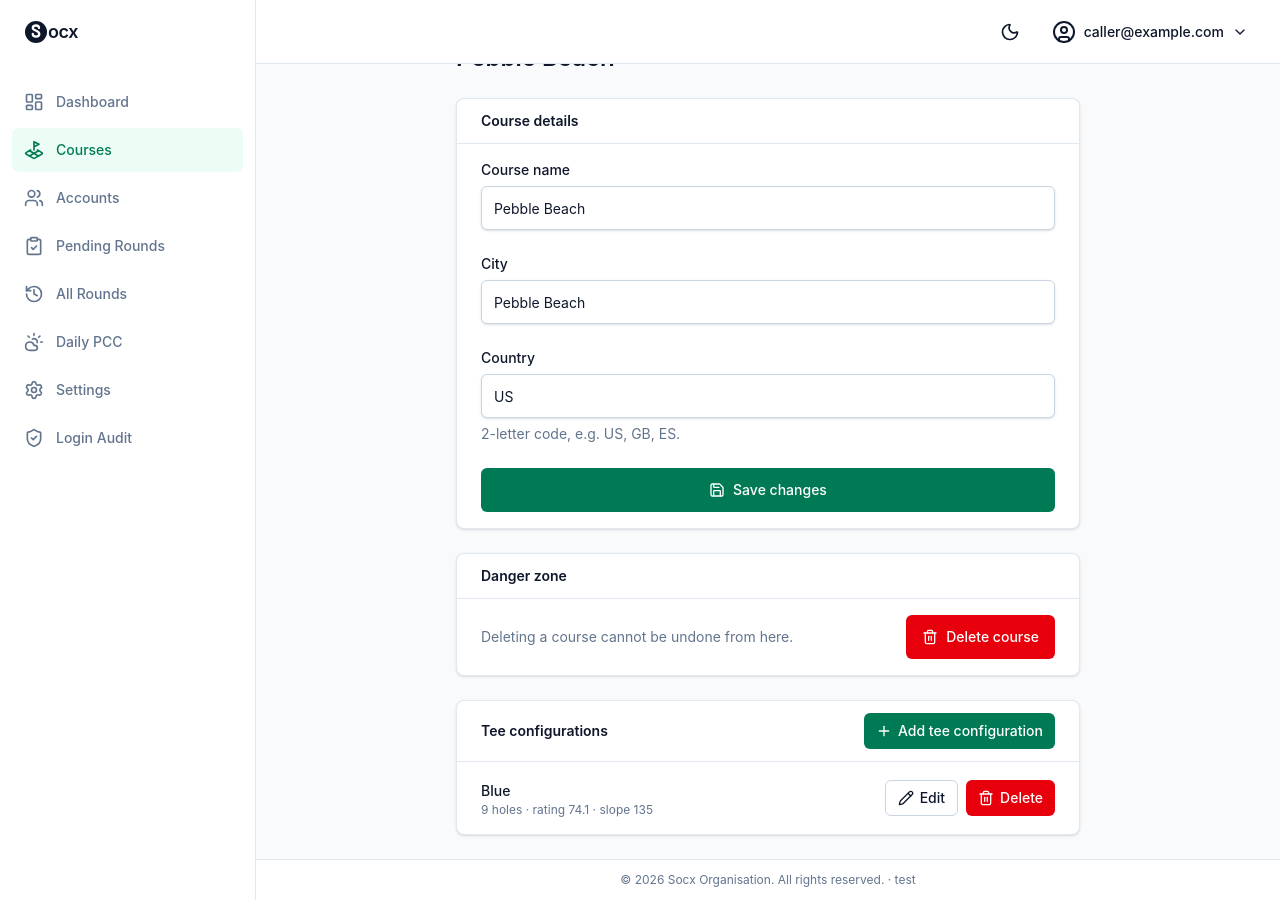
Scenario: CourseDetailPage › tee configurations › edits an existing tee configuration, pre-filled from its real data
(page scrolled)
Check: the text "Blue" is shown, box [481,782,510,799]
Click the button "Edit" at {"x": 921, "y": 798}, box [885,780,958,816]
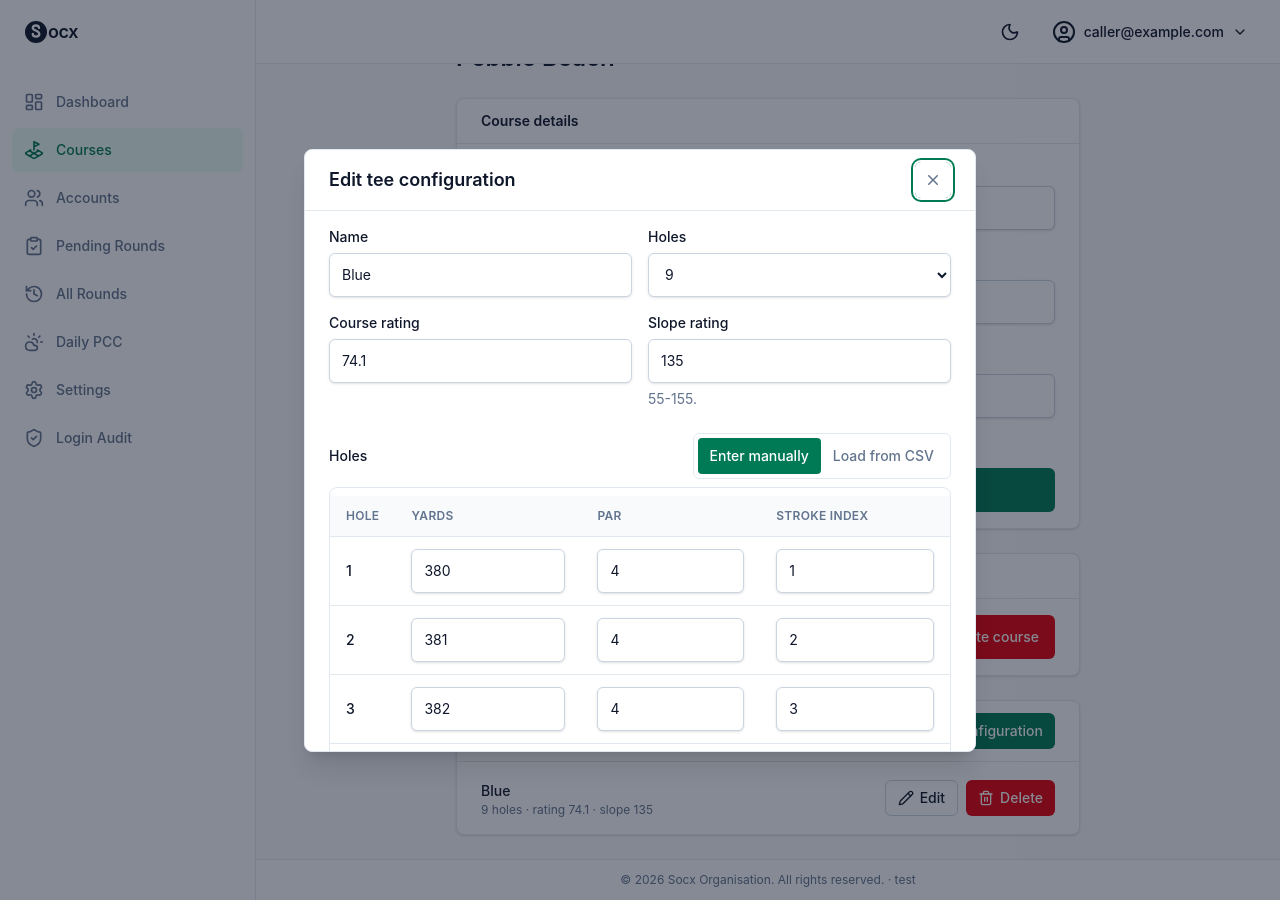
Check: the field labelled "Name" holds "Blue"
Check: the dropdown labelled "Holes" shows "9", box [648,252,951,296]
Check: the number field labelled "Course rating" holds "74.1", box [329,338,632,382]
Replace the text in the field labelled "Name" with "Blue (Updated)" at {"x": 480, "y": 274}, box [329,252,632,296]
(page scrolled)
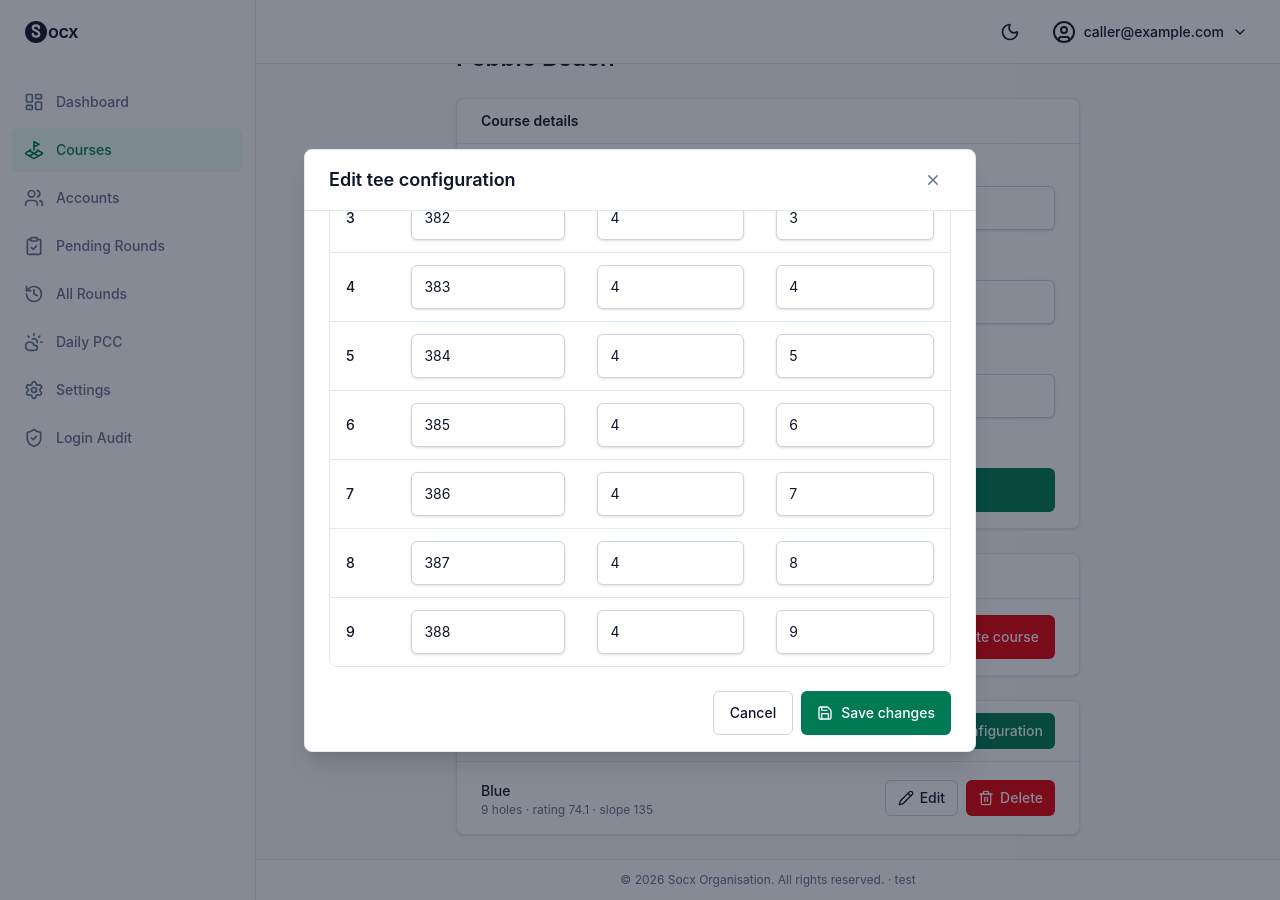
Click the button "Save changes" at {"x": 876, "y": 712}, box [801,690,951,734]
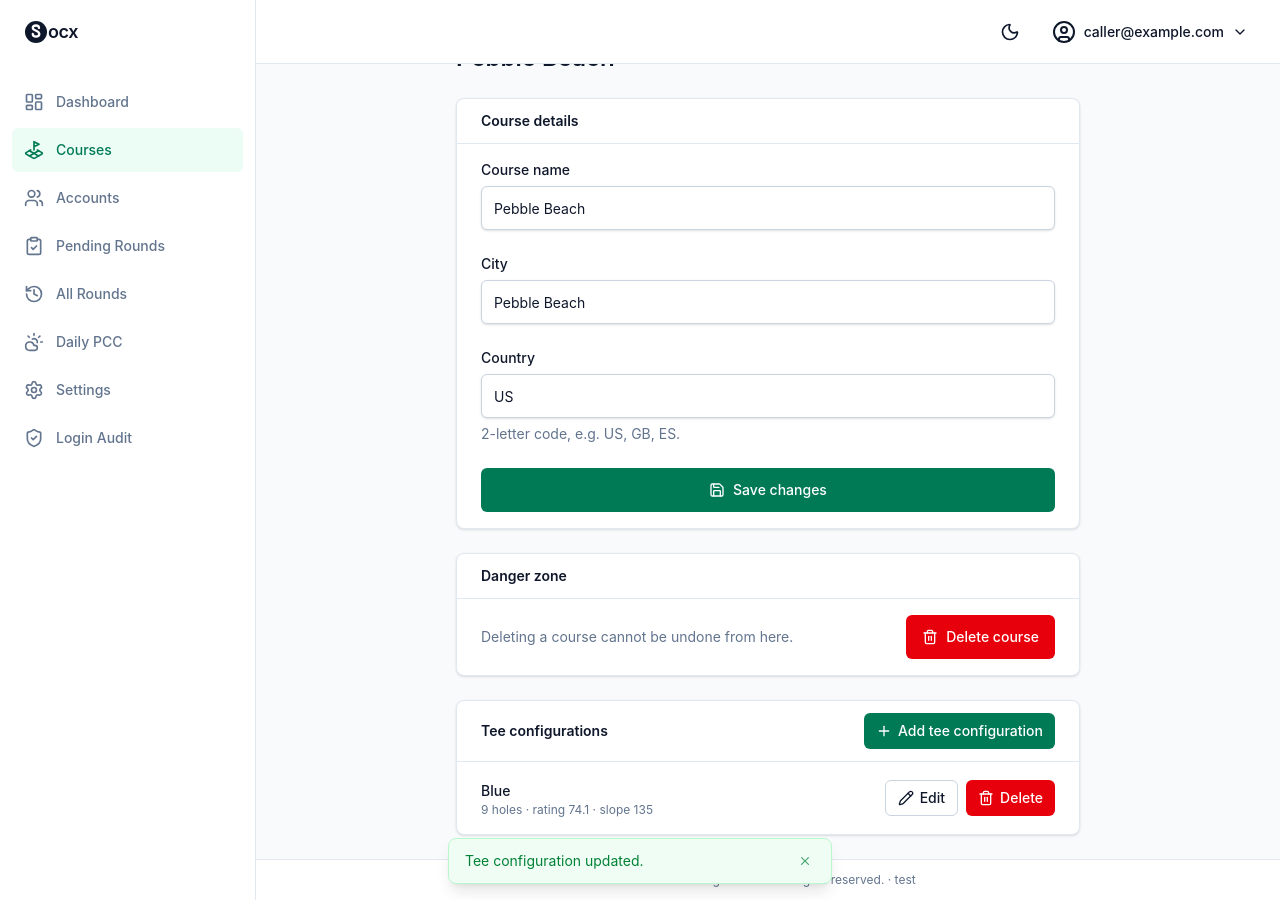
Check: the message reads "Tee configuration updated.", box [465,852,644,869]
